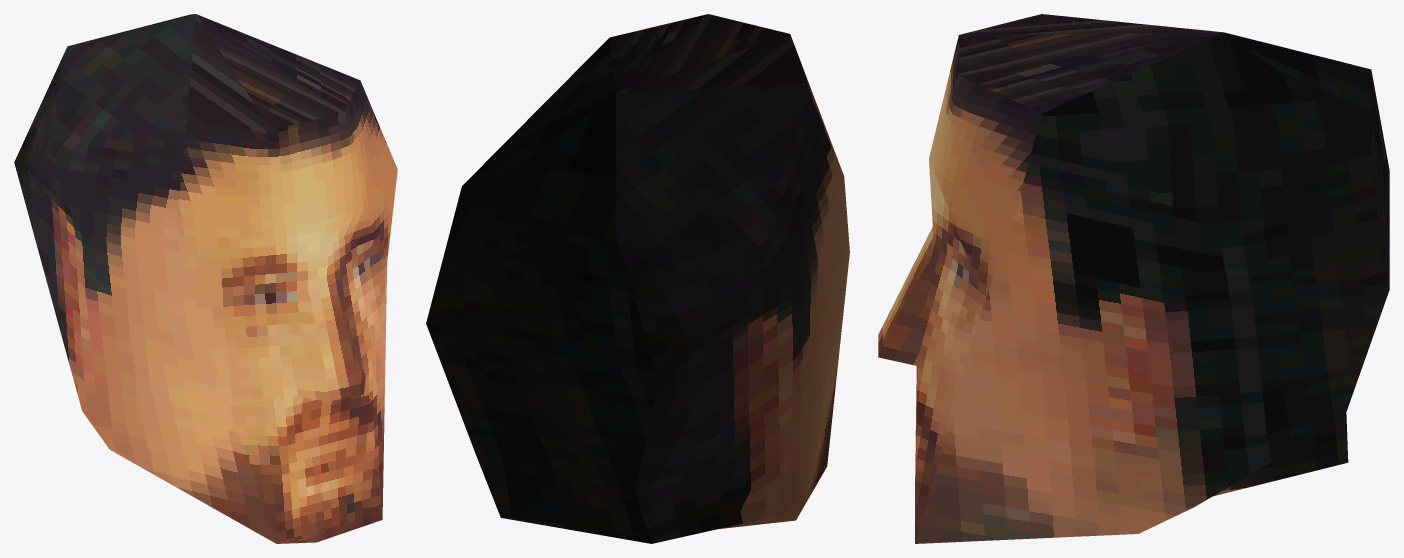
The model's file is CheadmishkinZ.obj.
3 views of the same model, side by side, from view 1: azimuth 30°, elevation 25°; view 2: azimuth 150°, elevation 25°; view 3: azimuth 270°, elevation 25° (orthographic). The views are drawn at different scales.
Size of the model in its own units: 159 by 242 by 222.
Materials: 4 (4 with a texture image).
